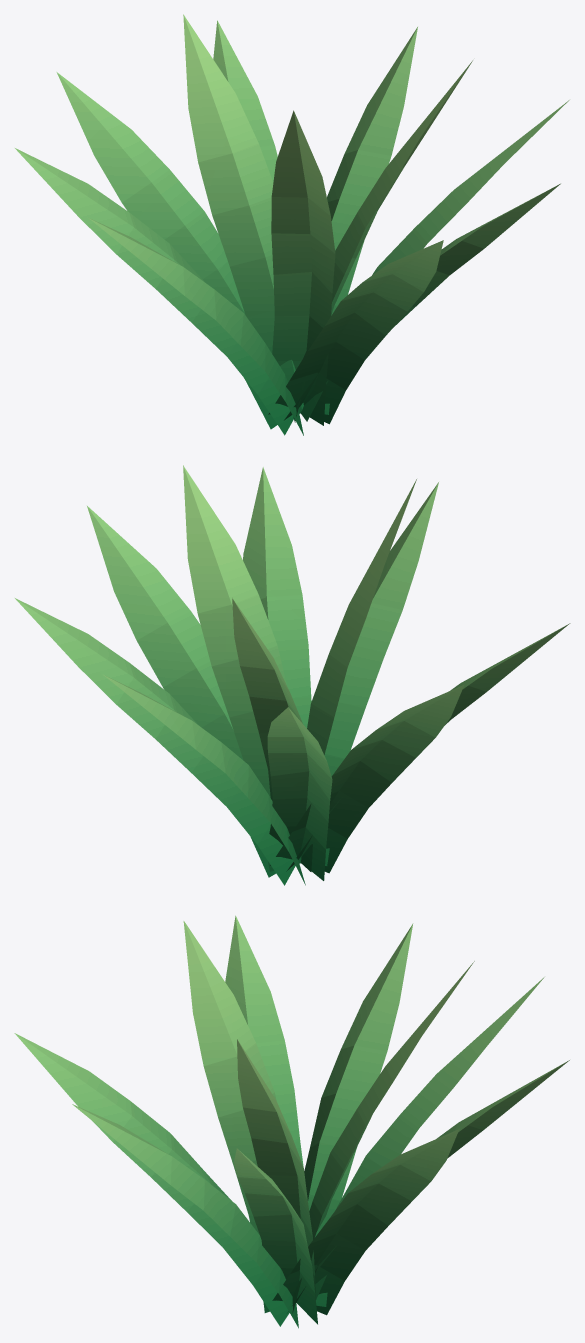
Rendered from Grass.fbx.
3 renders of one model, top to bottom at view 1: azimuth 30°, elevation 25°; view 2: azimuth 150°, elevation 25°; view 3: azimuth 270°, elevation 25°, orthographic.
Visible parts, largest first — view 1: Grass; view 2: Grass; view 3: Grass.
Part boxes in pixels (<box>): Grass: <box>15,14,569,435</box>; Grass: <box>15,465,570,885</box>; Grass: <box>14,915,569,1328</box>.
Size of the model in its own units: 0.8886 by 0.6505 by 0.897.
